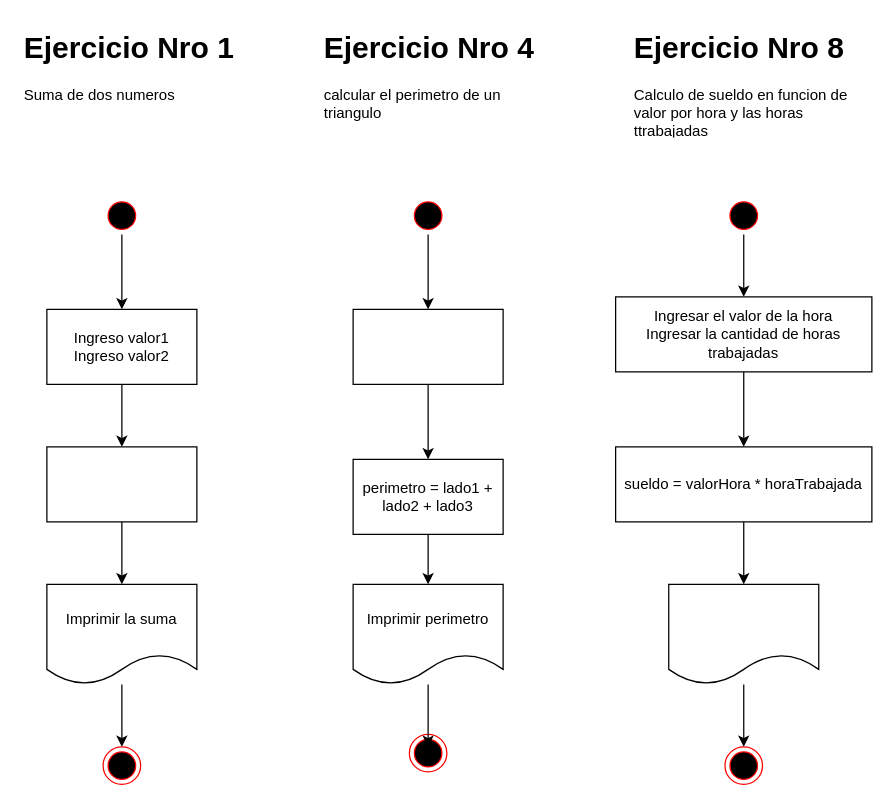
Image size: 894x806. Some labels were removed from this diagram. The centre of each missing label's shape, as x and y in pixels:
"Imprimir el sueldo" goes at pixel 743 633.
"Ingresar lado1 Ingresar lado2 Ingresar lado3" goes at pixel 427 346.
"sumar valor1 y valor2" goes at pixel 121 484.
